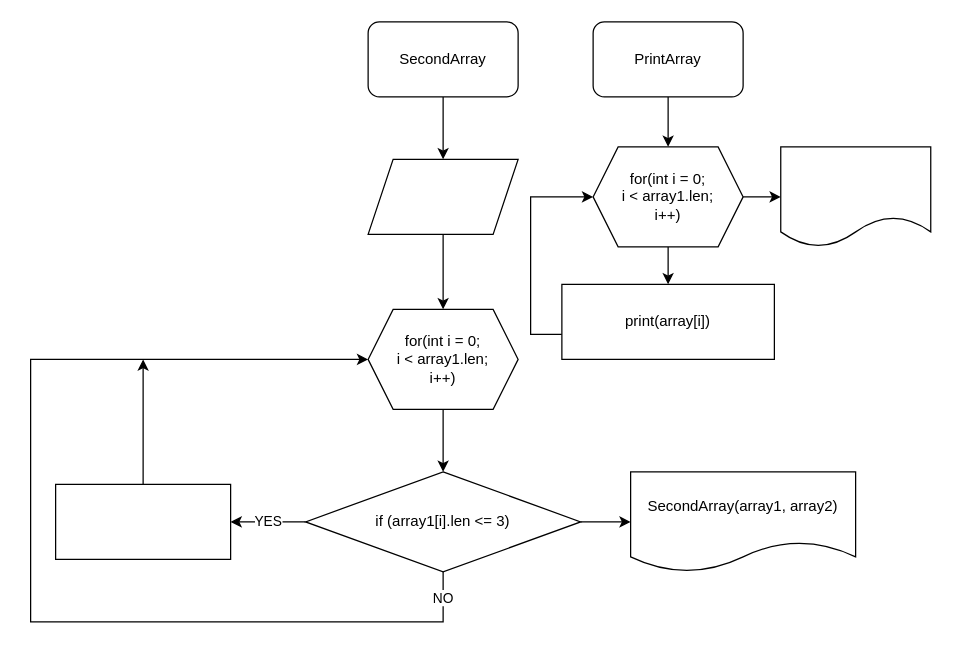
This 954x654 diagram has some shape labels left out. The shapes that lost their labels are listed below. From the top down, each one's centre as x and y in pixels, then its label:
the point at 442,196: string[] array1 string array2 int count = 0
the point at 855,196: PrintArray(array2)
the point at 142,521: array2[count] = array1[i] count++;
